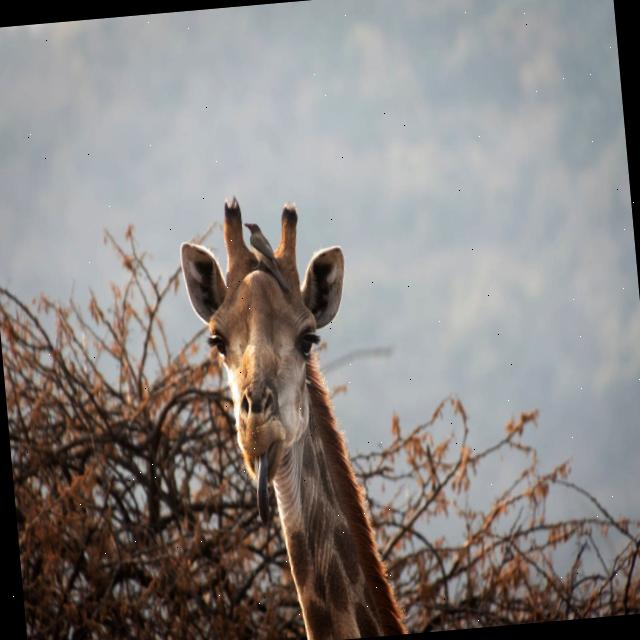Giraffe: (176, 182, 415, 640)
